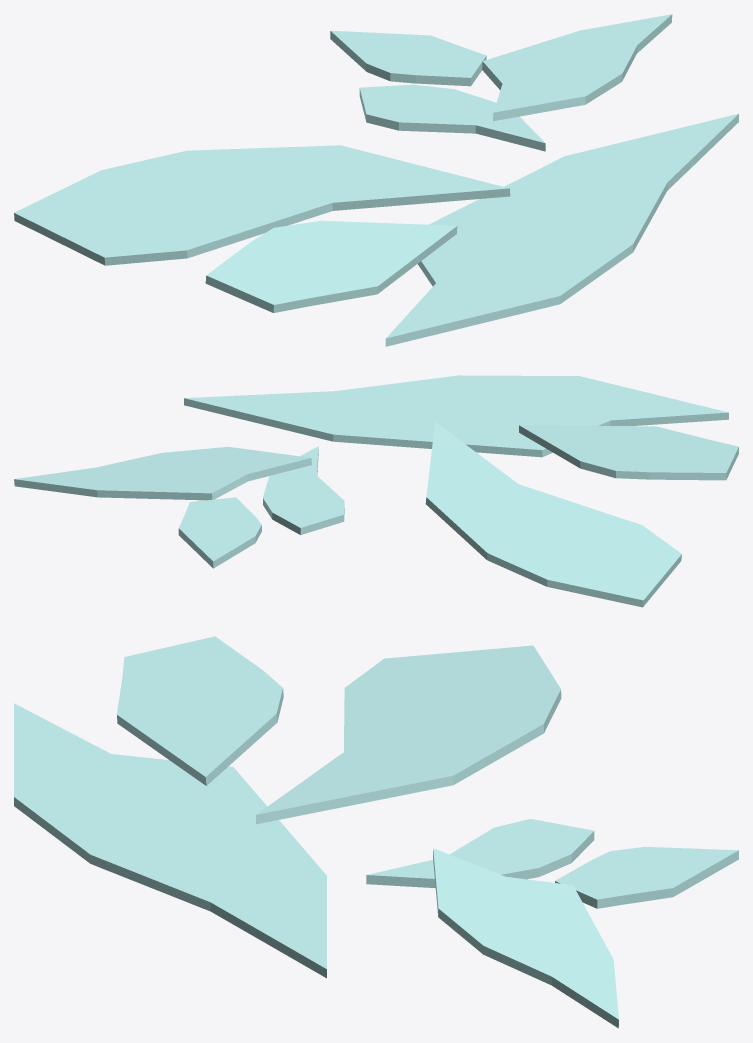
The model's file is 3dm_Glass.fbx.
3 renders of one model, top to bottom at view 1: azimuth 30°, elevation 25°; view 2: azimuth 150°, elevation 25°; view 3: azimuth 270°, elevation 25°, orthographic. The views are drawn at different scales.
Parts seen in each view (by area): view 1: Glass; view 2: Glass; view 3: Glass.
Boxes of the visible parts, bbox=[...] form: Glass: bbox=[14, 14, 738, 346]; Glass: bbox=[14, 375, 738, 607]; Glass: bbox=[14, 636, 738, 1028].
Bounding box in the file's own units: 10.16 × 0.5815 × 8.31.
